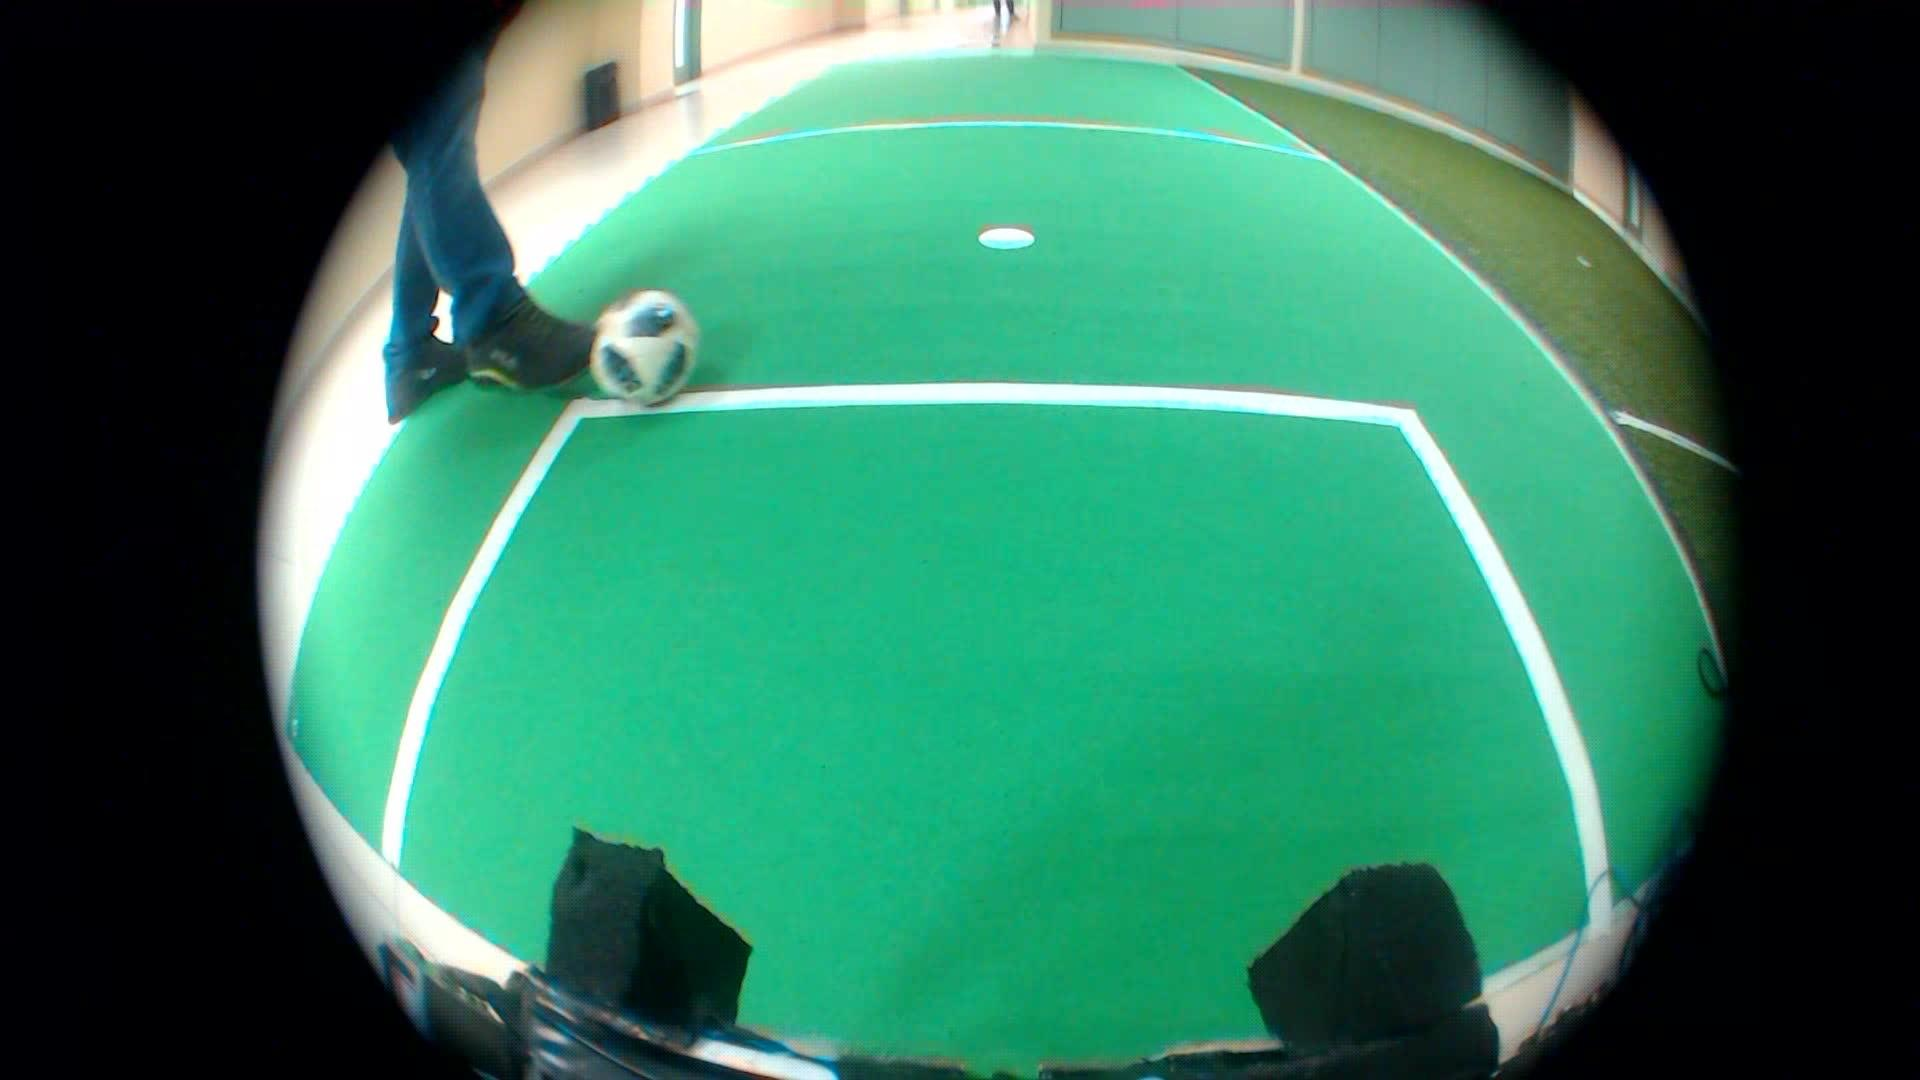ball: (580, 276, 711, 422)
